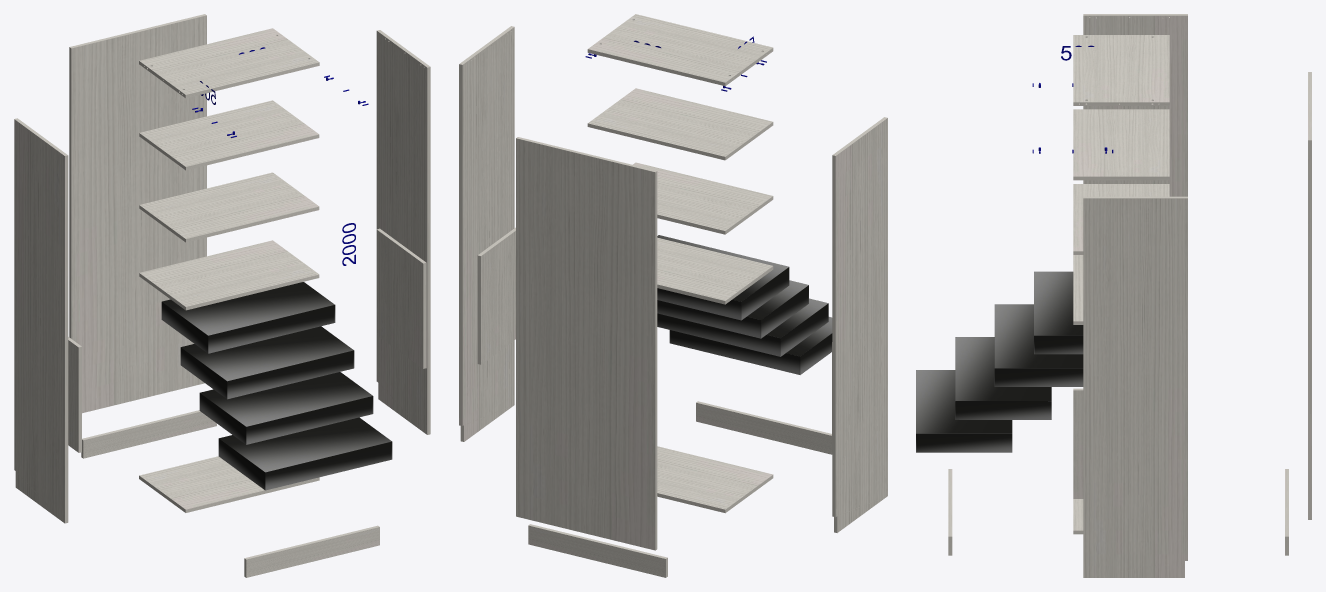
3 views of the same model, side by side, from view 1: azimuth 30°, elevation 25°; view 2: azimuth 150°, elevation 25°; view 3: azimuth 270°, elevation 25° (orthographic). The views are drawn at different scales.
Parts seen in each view (by area): view 1: {66482883-9123-4de6-B084-D812376C7611}_Node, {976B9EEA-FCFC-41b5-976B-7C9FADC69315}_Node, {2A14FA58-E551-4d0a-B2F1-7F674E8A53E7}_Node, {D449B835-A8E2-40f6-831F-CE58D3BCE634}_Node, {82230BB2-D1EF-465e-98B4-20A91E155837}_Node, {58C45A35-BDC1-4d2f-84F5-0098CBE594B1}_Node, {8297D6D9-75CA-4f57-B160-5F8057132FD0}_Node, {BEFC1864-42BD-4a3b-A30B-9B1FD6899BED}_Node, {2571401B-8B6B-4fdf-810D-0A5FB7F82BA0}_Node, {CF102F1F-7F9D-425f-88CA-922FC75C11CA}_Node, {6F0DACDD-77A9-45f8-AA66-83CDD80F3189}_Node, {E0A85FDF-4B0E-438a-A79F-3D034AD8E326}_Node (+4 smaller); view 2: {66482883-9123-4de6-B084-D812376C7611}_Node, {976B9EEA-FCFC-41b5-976B-7C9FADC69315}_Node, {2A14FA58-E551-4d0a-B2F1-7F674E8A53E7}_Node, {6F0DACDD-77A9-45f8-AA66-83CDD80F3189}_Node, {CF102F1F-7F9D-425f-88CA-922FC75C11CA}_Node, {BEFC1864-42BD-4a3b-A30B-9B1FD6899BED}_Node, {726943B9-56BD-418f-91B6-3FAE69B89910}_Node, {2571401B-8B6B-4fdf-810D-0A5FB7F82BA0}_Node, {E0A85FDF-4B0E-438a-A79F-3D034AD8E326}_Node, {58C45A35-BDC1-4d2f-84F5-0098CBE594B1}_Node, {82230BB2-D1EF-465e-98B4-20A91E155837}_Node, {D449B835-A8E2-40f6-831F-CE58D3BCE634}_Node (+3 smaller); view 3: {2A14FA58-E551-4d0a-B2F1-7F674E8A53E7}_Node, {6F0DACDD-77A9-45f8-AA66-83CDD80F3189}_Node, {CF102F1F-7F9D-425f-88CA-922FC75C11CA}_Node, {976B9EEA-FCFC-41b5-976B-7C9FADC69315}_Node, {D449B835-A8E2-40f6-831F-CE58D3BCE634}_Node, {58C45A35-BDC1-4d2f-84F5-0098CBE594B1}_Node, {82230BB2-D1EF-465e-98B4-20A91E155837}_Node, {8297D6D9-75CA-4f57-B160-5F8057132FD0}_Node, {BEFC1864-42BD-4a3b-A30B-9B1FD6899BED}_Node, {66482883-9123-4de6-B084-D812376C7611}_Node, {E0A85FDF-4B0E-438a-A79F-3D034AD8E326}_Node, {2571401B-8B6B-4fdf-810D-0A5FB7F82BA0}_Node.
Boxes of the visible parts, x1,y1,x2,y2 form: {66482883-9123-4de6-B084-D812376C7611}_Node: (69, 14, 206, 413); {976B9EEA-FCFC-41b5-976B-7C9FADC69315}_Node: (14, 118, 68, 523); {2A14FA58-E551-4d0a-B2F1-7F674E8A53E7}_Node: (376, 30, 430, 434); {D449B835-A8E2-40f6-831F-CE58D3BCE634}_Node: (218, 417, 392, 490); {82230BB2-D1EF-465e-98B4-20A91E155837}_Node: (180, 326, 354, 399); {58C45A35-BDC1-4d2f-84F5-0098CBE594B1}_Node: (199, 372, 373, 444); {8297D6D9-75CA-4f57-B160-5F8057132FD0}_Node: (161, 282, 335, 353); {BEFC1864-42BD-4a3b-A30B-9B1FD6899BED}_Node: (139, 172, 319, 242); {2571401B-8B6B-4fdf-810D-0A5FB7F82BA0}_Node: (139, 240, 319, 310); {CF102F1F-7F9D-425f-88CA-922FC75C11CA}_Node: (139, 28, 319, 98); {6F0DACDD-77A9-45f8-AA66-83CDD80F3189}_Node: (139, 100, 319, 170); {E0A85FDF-4B0E-438a-A79F-3D034AD8E326}_Node: (376, 228, 426, 368); {66482883-9123-4de6-B084-D812376C7611}_Node: (516, 137, 657, 550); {976B9EEA-FCFC-41b5-976B-7C9FADC69315}_Node: (832, 117, 887, 532); {2A14FA58-E551-4d0a-B2F1-7F674E8A53E7}_Node: (459, 26, 514, 441); {6F0DACDD-77A9-45f8-AA66-83CDD80F3189}_Node: (587, 88, 773, 160); {CF102F1F-7F9D-425f-88CA-922FC75C11CA}_Node: (587, 14, 773, 86); {BEFC1864-42BD-4a3b-A30B-9B1FD6899BED}_Node: (633, 162, 773, 234); {726943B9-56BD-418f-91B6-3FAE69B89910}_Node: (657, 446, 773, 513); {2571401B-8B6B-4fdf-810D-0A5FB7F82BA0}_Node: (657, 237, 773, 304); {E0A85FDF-4B0E-438a-A79F-3D034AD8E326}_Node: (477, 227, 515, 364); {58C45A35-BDC1-4d2f-84F5-0098CBE594B1}_Node: (657, 298, 828, 356); {82230BB2-D1EF-465e-98B4-20A91E155837}_Node: (657, 280, 808, 338); {D449B835-A8E2-40f6-831F-CE58D3BCE634}_Node: (669, 317, 832, 374); {2A14FA58-E551-4d0a-B2F1-7F674E8A53E7}_Node: (1083, 196, 1187, 577); {6F0DACDD-77A9-45f8-AA66-83CDD80F3189}_Node: (1073, 109, 1169, 180); {CF102F1F-7F9D-425f-88CA-922FC75C11CA}_Node: (1073, 35, 1169, 105); {976B9EEA-FCFC-41b5-976B-7C9FADC69315}_Node: (1083, 14, 1187, 196); {D449B835-A8E2-40f6-831F-CE58D3BCE634}_Node: (916, 370, 1012, 452); {58C45A35-BDC1-4d2f-84F5-0098CBE594B1}_Node: (955, 337, 1051, 419); {82230BB2-D1EF-465e-98B4-20A91E155837}_Node: (994, 304, 1083, 386); {8297D6D9-75CA-4f57-B160-5F8057132FD0}_Node: (1034, 271, 1083, 354); {BEFC1864-42BD-4a3b-A30B-9B1FD6899BED}_Node: (1073, 184, 1169, 254); {66482883-9123-4de6-B084-D812376C7611}_Node: (1308, 72, 1311, 519); {E0A85FDF-4B0E-438a-A79F-3D034AD8E326}_Node: (1073, 388, 1083, 498); {2571401B-8B6B-4fdf-810D-0A5FB7F82BA0}_Node: (1073, 255, 1083, 324).
Bounding box in the file's own units: 2.08 × 2.4 × 1.89.
3 materials, 2 textured.
